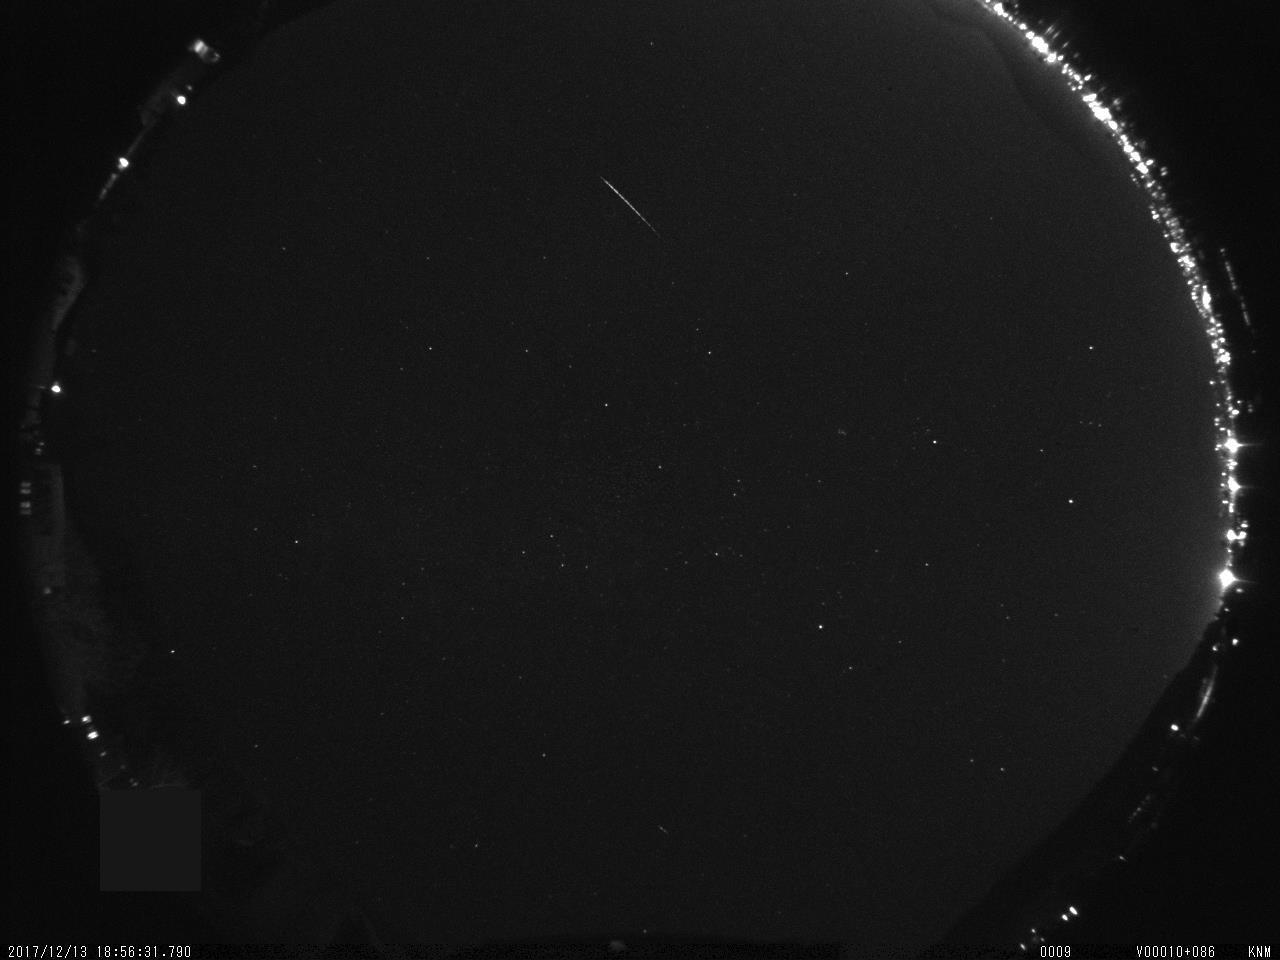Meteor: (594, 169, 668, 244)
